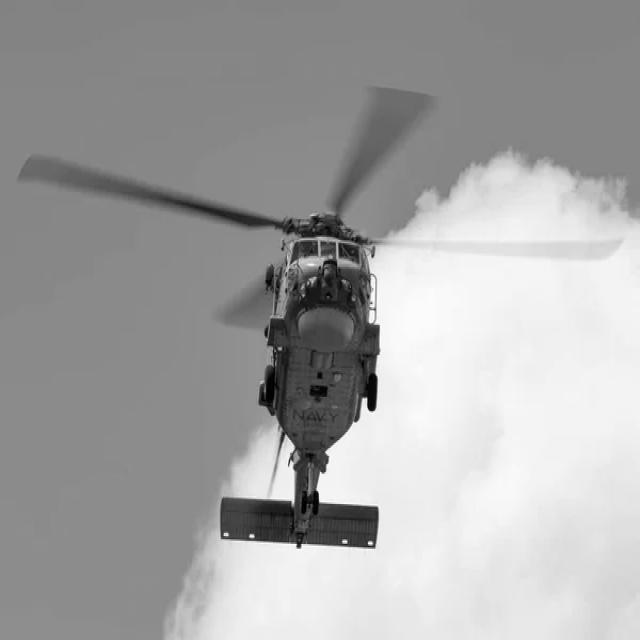Helicopter: (18, 87, 618, 550)
